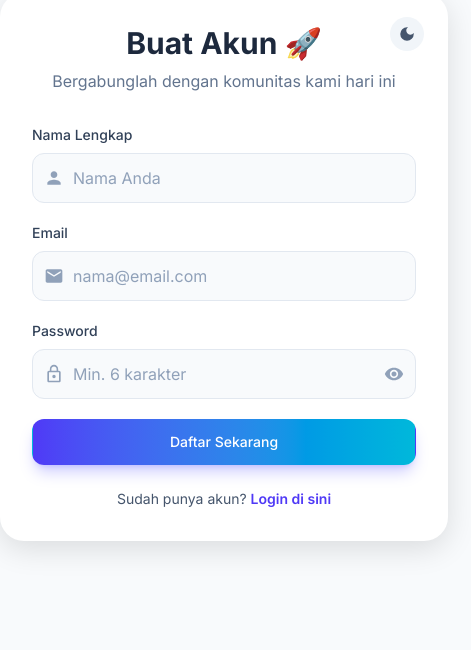
Test: RegisterInput component › should show inline error when password less than 6 characters
Type "Yandi" into the field labelled "Nama Lengkap" at x=224, y=178, box x1=32 y1=153 x2=416 y2=203
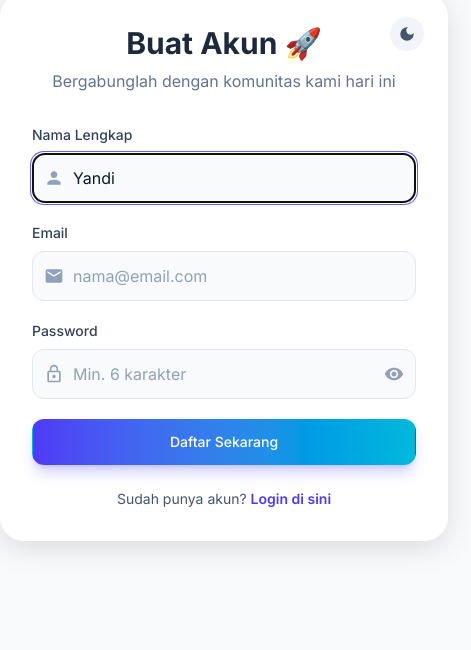
Type "yandi@test.com" into the field labelled "Email" at x=224, y=276, box x1=32 y1=251 x2=416 y2=301
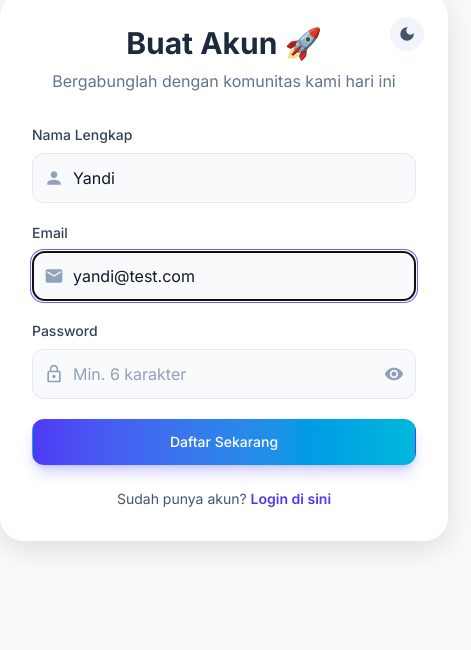
Type "123" into the password field labelled "Password" at x=224, y=374, box x1=32 y1=349 x2=416 y2=399
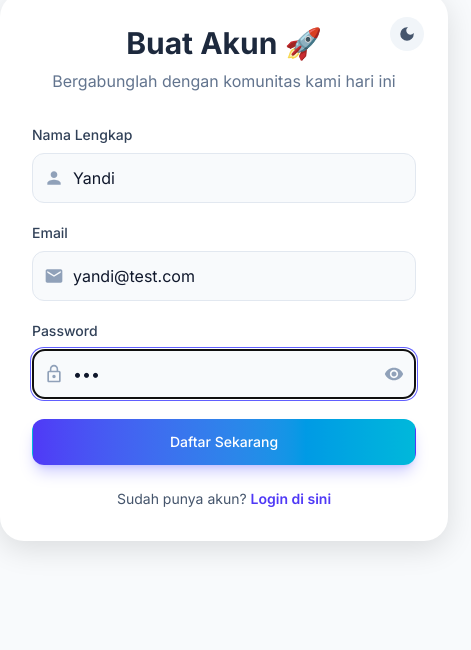
Click the button "Daftar Sekarang" at x=224, y=442, box x1=32 y1=419 x2=416 y2=465
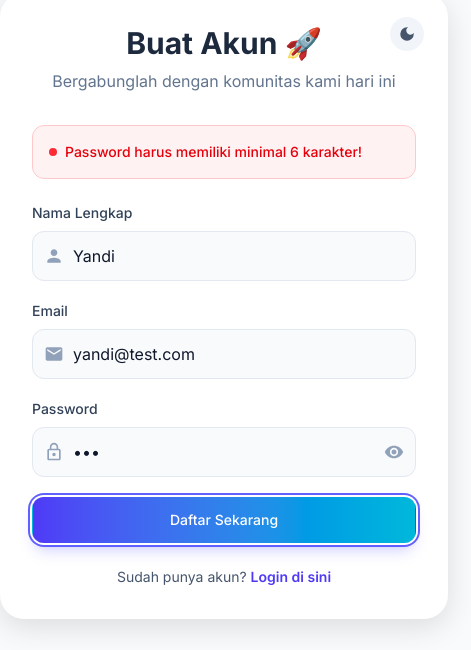
expect the text "Password harus memiliki minimal 6 karakter!" is shown: met, box x1=32 y1=125 x2=416 y2=179
